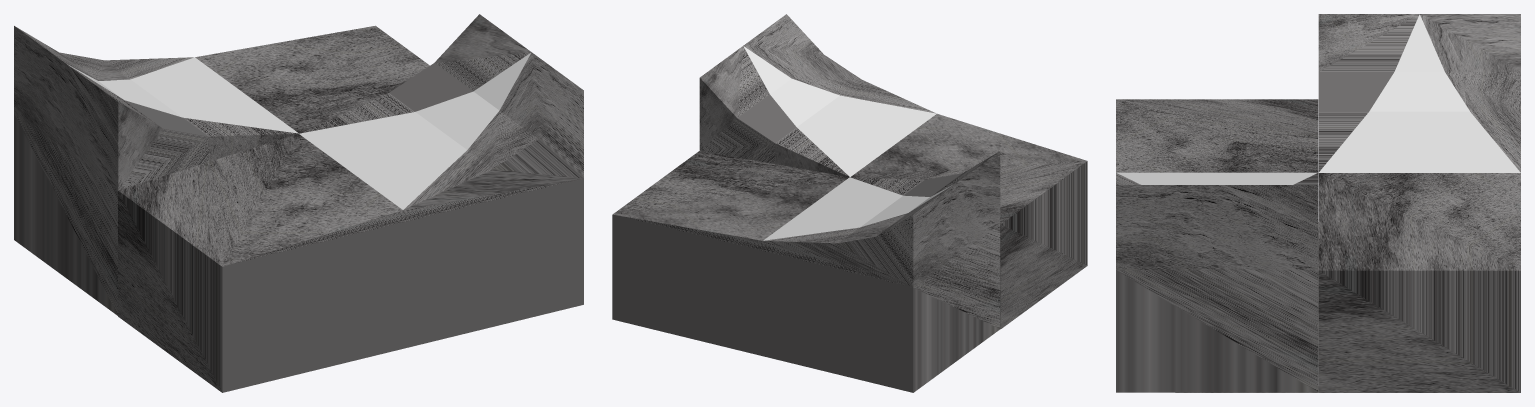
Rendered from DoubleRamp.glb.
The picture shows the model from 3 angles, left to right: view 1: azimuth 30°, elevation 25°; view 2: azimuth 150°, elevation 25°; view 3: azimuth 270°, elevation 25°; orthographic projection. The views are drawn at different scales.
Visible parts, largest first — view 1: Cube; view 2: Cube; view 3: Cube.
Part boxes in pixels (x1,y1,x2,y2): Cube: (14,14,583,392); Cube: (612,14,1087,392); Cube: (1116,14,1520,392).
Size of the model in its own units: 3 by 1.7 by 3.
Materials: 2 (1 with a texture image).
